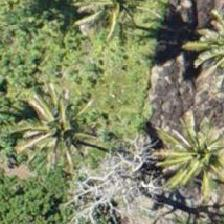coconut_tree: (20, 85, 110, 175), (146, 114, 223, 204)
